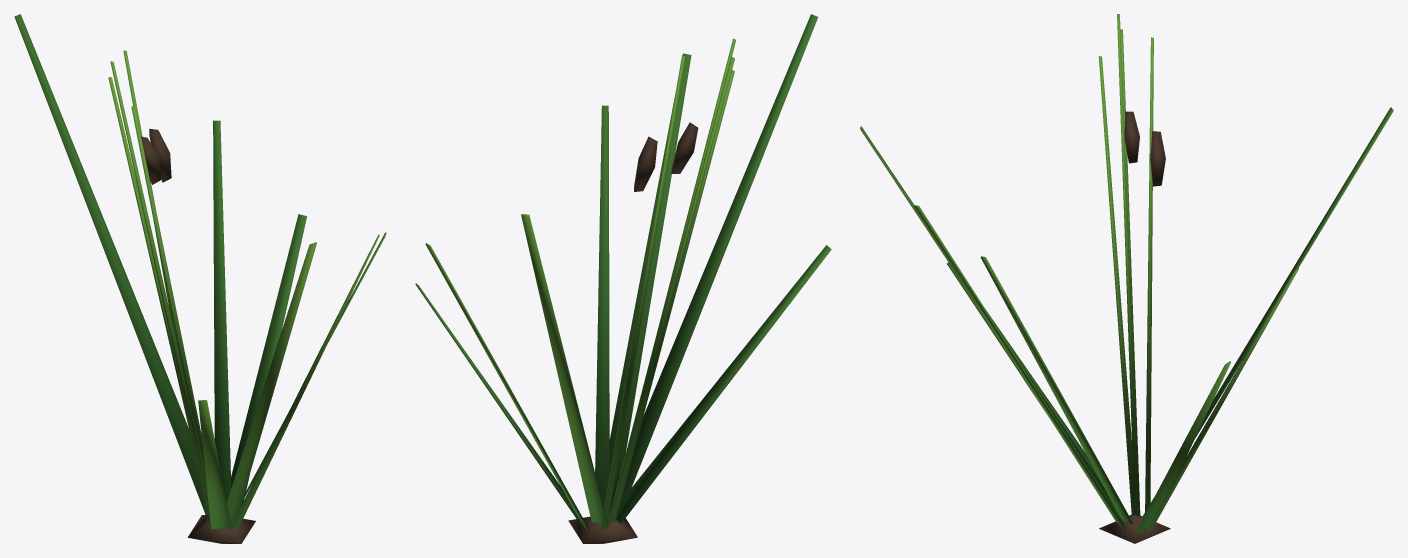
The model's file is reeds.lod2.glb.
3 renders of one model, left to right at view 1: azimuth 30°, elevation 25°; view 2: azimuth 150°, elevation 25°; view 3: azimuth 270°, elevation 25°, orthographic. The views are drawn at different scales.
Visible parts, largest first — view 1: reeds_s1_lod2; view 2: reeds_s1_lod2; view 3: reeds_s1_lod2.
Boxes of the visible parts, bbox=[...] form: reeds_s1_lod2: bbox=[14, 14, 386, 543]; reeds_s1_lod2: bbox=[415, 14, 831, 543]; reeds_s1_lod2: bbox=[860, 14, 1393, 543].
Size of the model in its own units: 0.8666 by 1.66 by 1.69.
